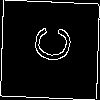C: (25, 24, 72, 63)
